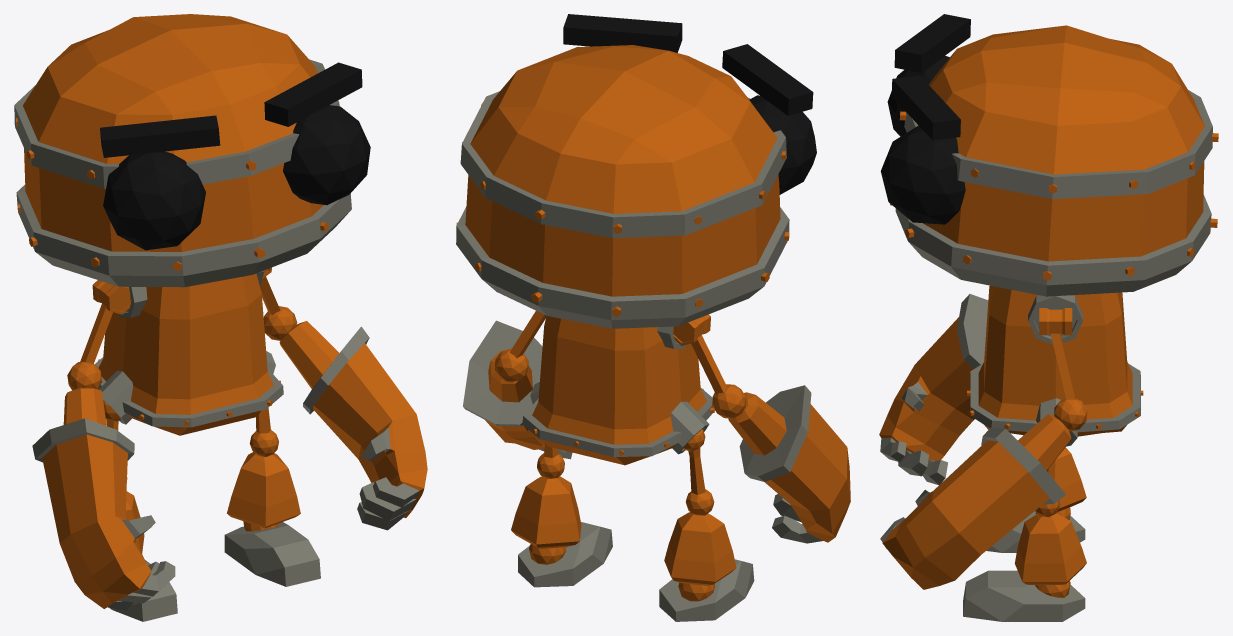
File: Robot.obj
The picture shows the model from 3 angles, left to right: view 1: azimuth 30°, elevation 25°; view 2: azimuth 150°, elevation 25°; view 3: azimuth 270°, elevation 25°; orthographic projection.
Parts seen in each view (by area): view 1: Head_Cylinder, Torso_Cube.001, Hand.R_Cylinder.015, Hand.L_Cylinder.022, Foot.L_Cylinder.014, LowerLeg.L_Cylinder.012, Arm.R_Cylinder.013, Foot.R_Cylinder.017, Arm.L_Cylinder.010, Shoulder.R_Cylinder.009, Leg.L_Cylinder.011; view 2: Head_Cylinder, Torso_Cube.001, Hand.R_Cylinder.015, Hand.L_Cylinder.022, LowerLeg.R_Cylinder.018, LowerLeg.L_Cylinder.012, Foot.L_Cylinder.014, Foot.R_Cylinder.017, Arm.R_Cylinder.013, Arm.L_Cylinder.010, Leg.R_Cylinder.019, Shoulder.R_Cylinder.009 (+1 smaller); view 3: Head_Cylinder, Torso_Cube.001, Hand.L_Cylinder.022, Hand.R_Cylinder.015, Foot.L_Cylinder.014, LowerLeg.L_Cylinder.012, Arm.L_Cylinder.010, LowerLeg.R_Cylinder.018, Shoulder.L_Cylinder.008, Foot.R_Cylinder.017.
Boxes of the visible parts, x1,y1,x2,y2 form: Head_Cylinder: (14, 14, 370, 287); Torso_Cube.001: (94, 270, 283, 435); Hand.R_Cylinder.015: (32, 387, 175, 610); Hand.L_Cylinder.022: (279, 321, 427, 530); Foot.L_Cylinder.014: (224, 522, 320, 586); LowerLeg.L_Cylinder.012: (227, 452, 300, 531); Arm.R_Cylinder.013: (67, 303, 112, 390); Foot.R_Cylinder.017: (109, 560, 177, 621); Arm.L_Cylinder.010: (260, 276, 297, 340); Shoulder.R_Cylinder.009: (92, 280, 131, 314); Leg.L_Cylinder.011: (249, 407, 278, 456); Head_Cylinder: (456, 14, 816, 328); Torso_Cube.001: (522, 315, 714, 465); Hand.R_Cylinder.015: (728, 385, 850, 543); Hand.L_Cylinder.022: (463, 320, 572, 459); LowerLeg.R_Cylinder.018: (664, 512, 736, 601); LowerLeg.L_Cylinder.012: (511, 476, 581, 564); Foot.L_Cylinder.014: (518, 522, 612, 587); Foot.R_Cylinder.017: (659, 559, 754, 621); Arm.R_Cylinder.013: (691, 335, 745, 418); Arm.L_Cylinder.010: (495, 311, 545, 382); Leg.R_Cylinder.019: (685, 447, 714, 515); Shoulder.R_Cylinder.009: (672, 314, 710, 345); Head_Cylinder: (880, 14, 1218, 296); Torso_Cube.001: (967, 285, 1143, 446); Hand.L_Cylinder.022: (880, 414, 1071, 589); Hand.R_Cylinder.015: (879, 294, 988, 485); Foot.L_Cylinder.014: (963, 570, 1085, 621); LowerLeg.L_Cylinder.012: (1014, 513, 1086, 597); Arm.L_Cylinder.010: (1050, 333, 1087, 431); LowerLeg.R_Cylinder.018: (1035, 447, 1086, 519); Shoulder.L_Cylinder.008: (1039, 308, 1072, 335); Foot.R_Cylinder.017: (986, 511, 1085, 552).
Bounding box in the file's own units: 3.1 × 4.5 × 2.63.
